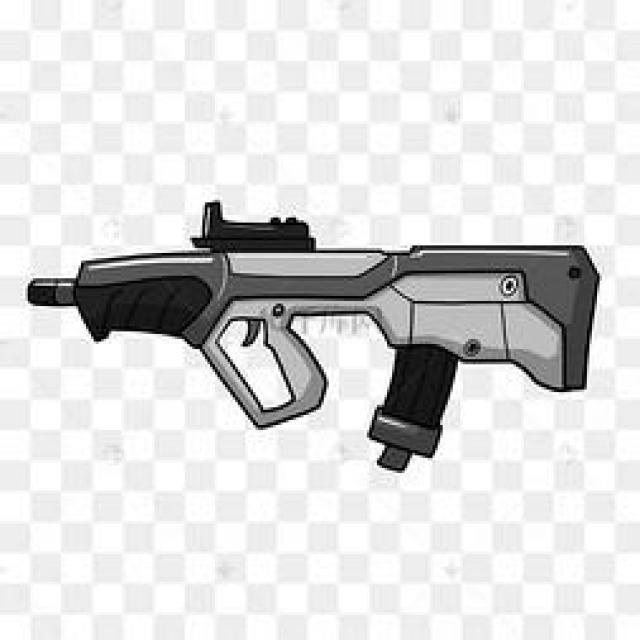gun: (26, 197, 600, 473)
